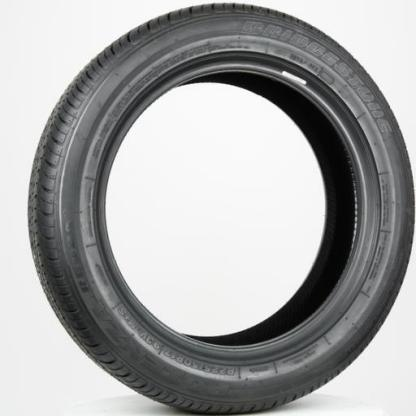Tire: (26, 2, 415, 415)
